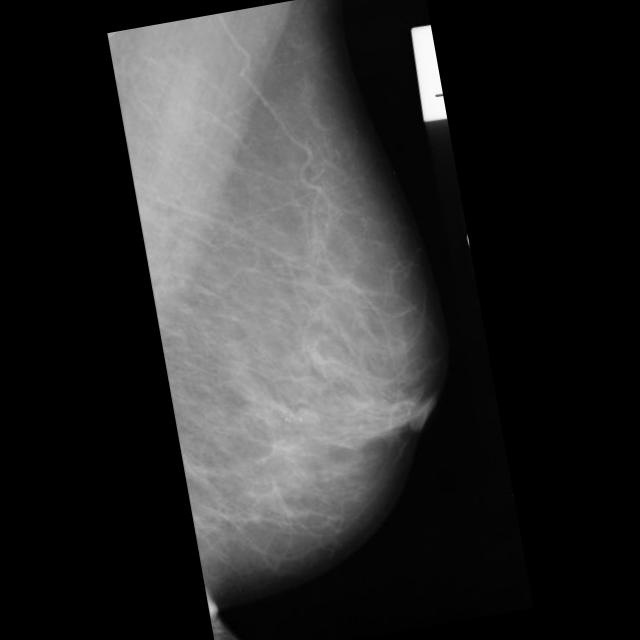CALC: (274, 400, 308, 434)
